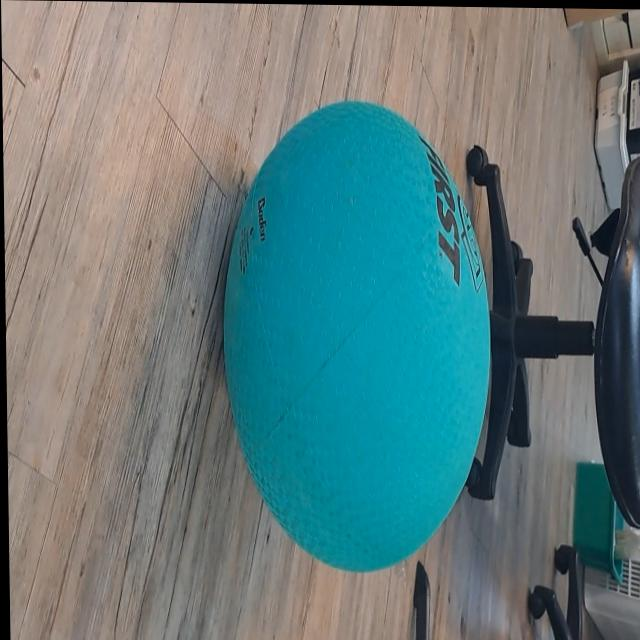ALGAE: (217, 95, 494, 575)
